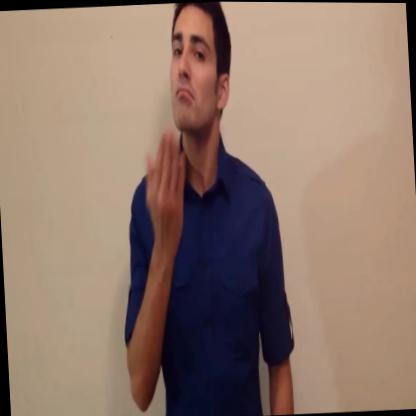ThankYou: (105, 1, 296, 416)
